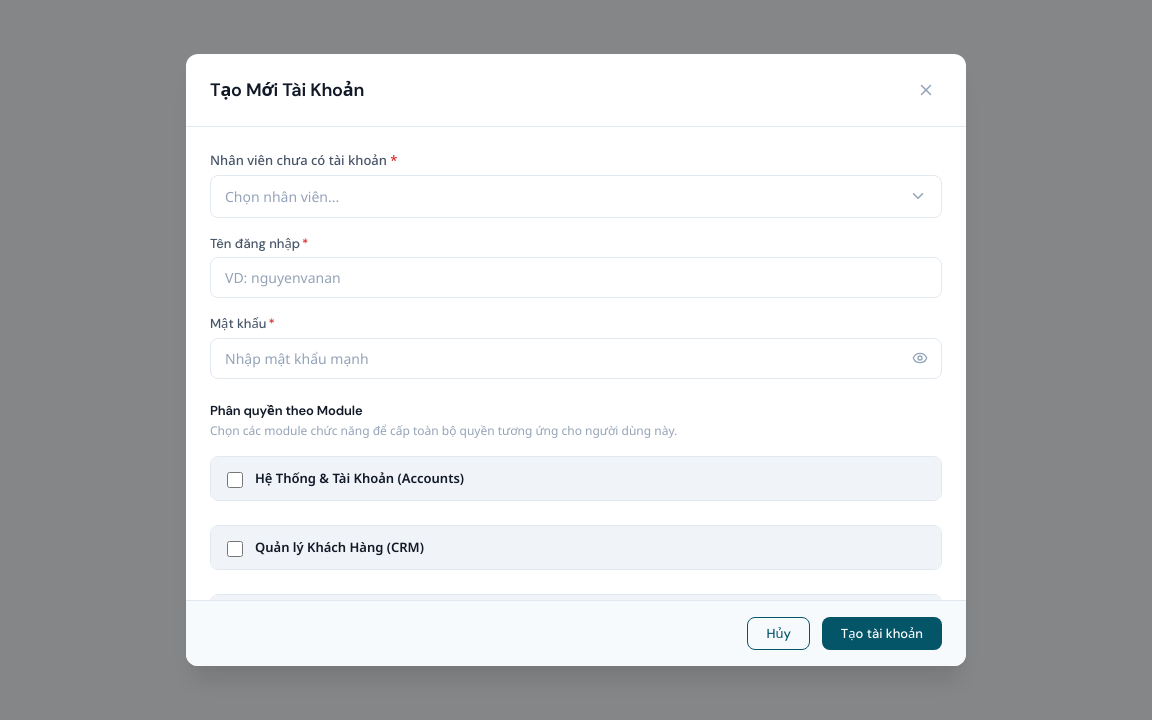
Test: AccountModal › displays API error banner when create user fails
The width and height of the screenshot is (1152, 720).
# Open SearchableSelect
Click the dropdown: (576, 196) [210,174,942,218]
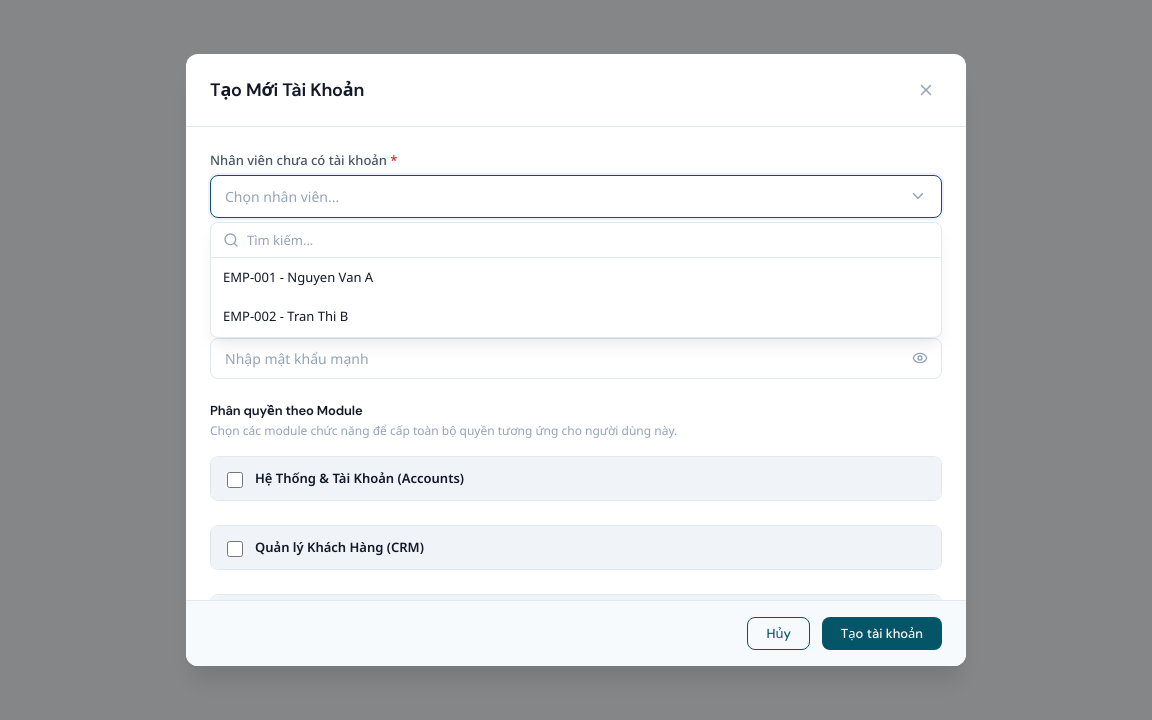
# Select option
Click the option "EMP-001 - Nguyen Van A": (298, 276) [223,268,373,286]
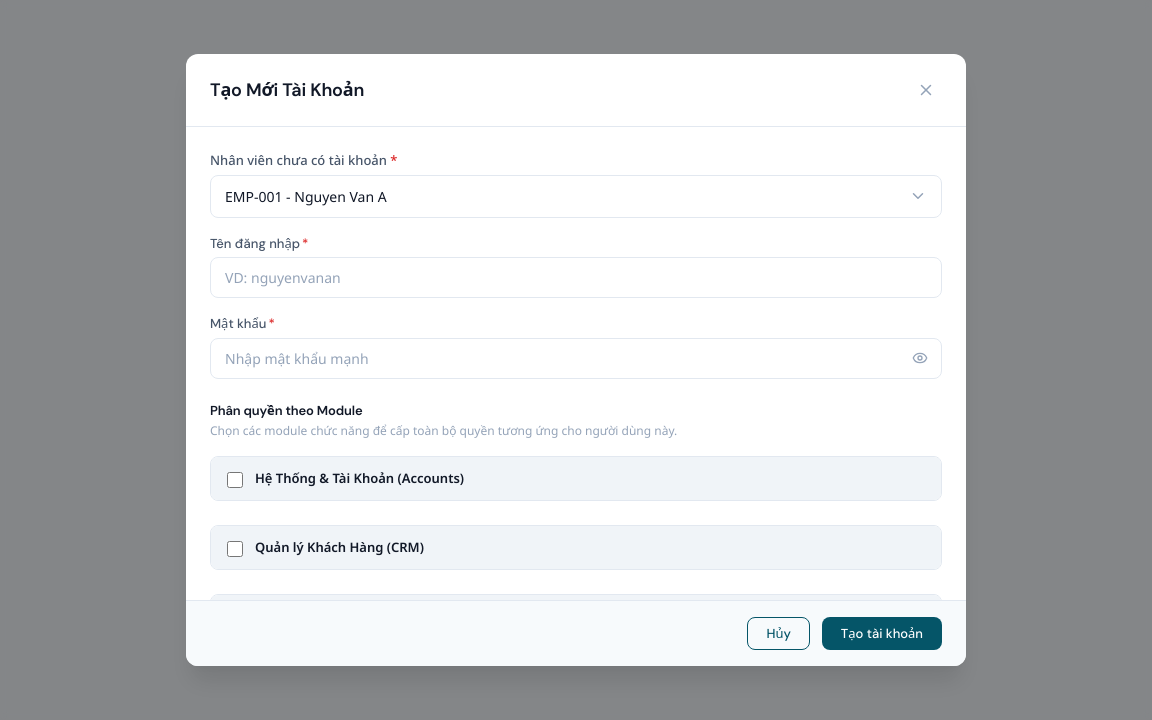
In the field labelled "Tên đăng nhập*": (576, 278) [210,257,942,298], type "duplicate_user"
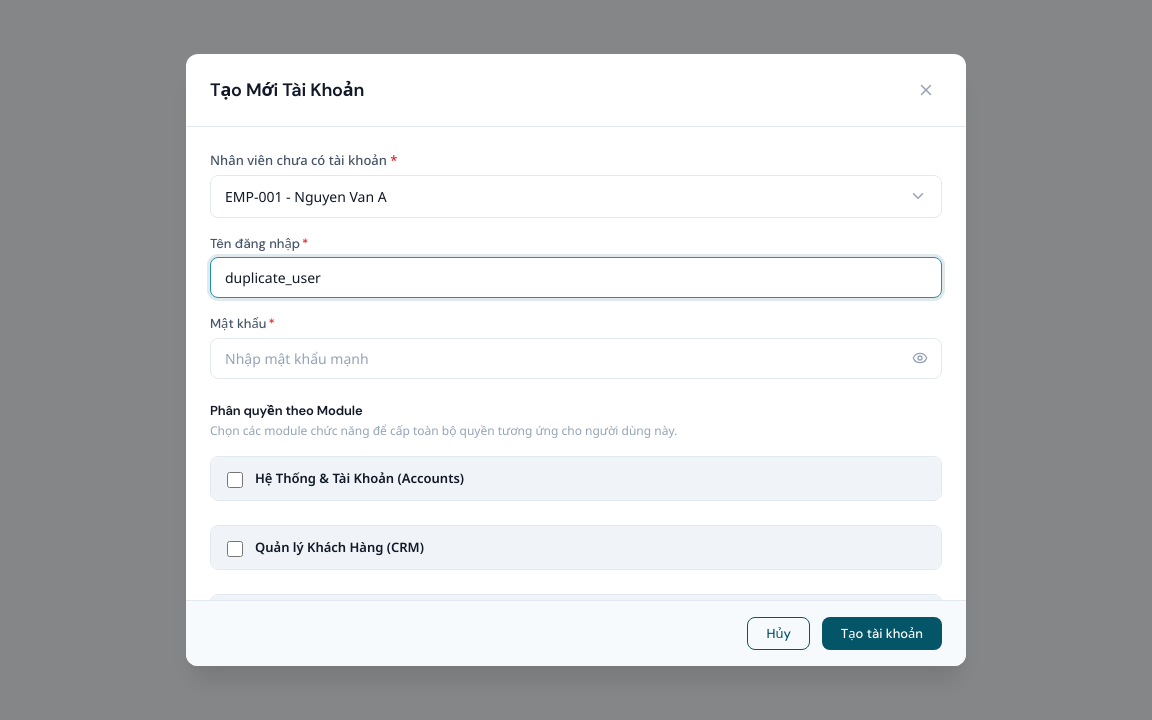
In the password field labelled "Mật khẩu*": (576, 358) [210,338,942,378], type "StrongPass123!"
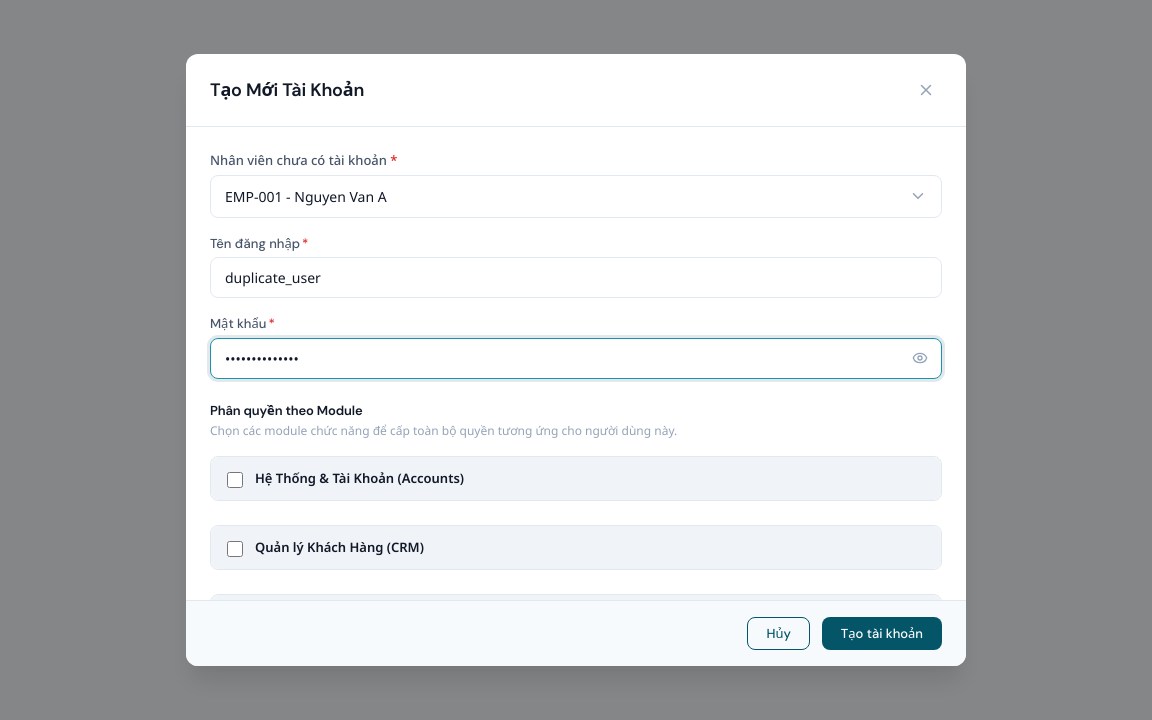
Click the button "Tạo tài khoản": (882, 634) [822,617,942,650]
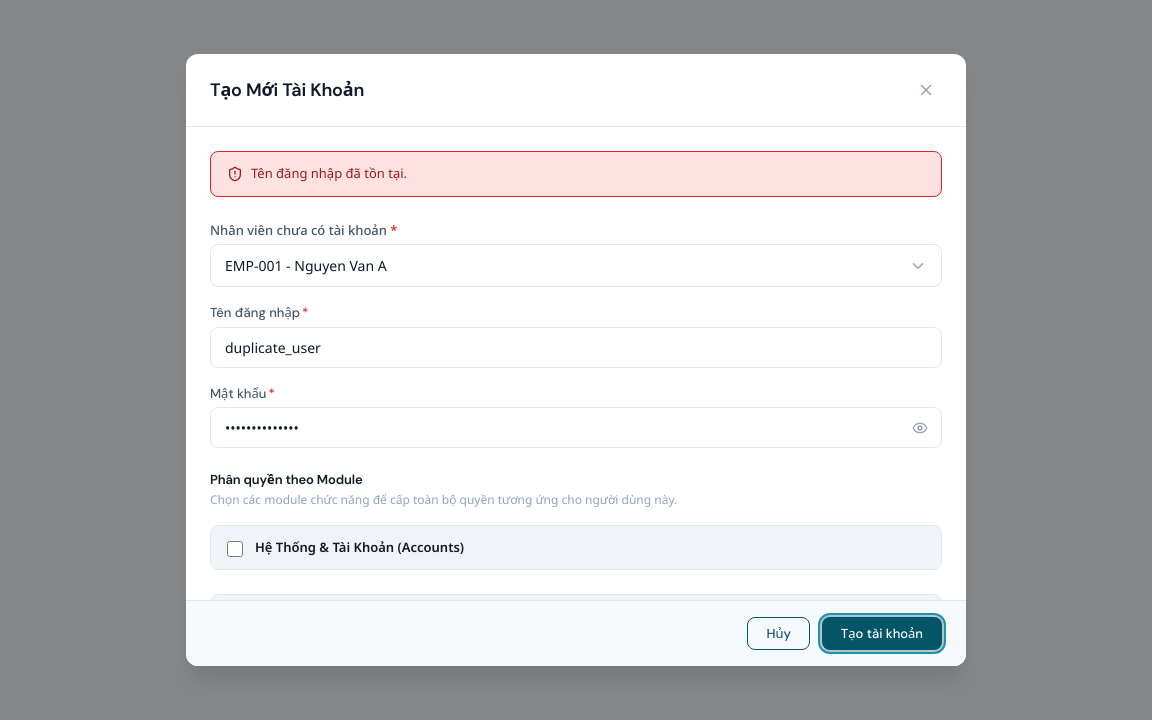
Expected: the text "Tên đăng nhập đã tồn tại." is shown, [251,164,407,184]
